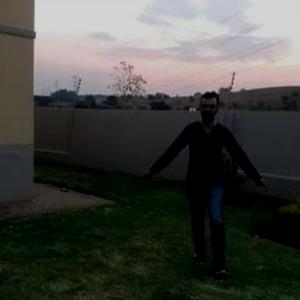land: (152, 83, 281, 283)
